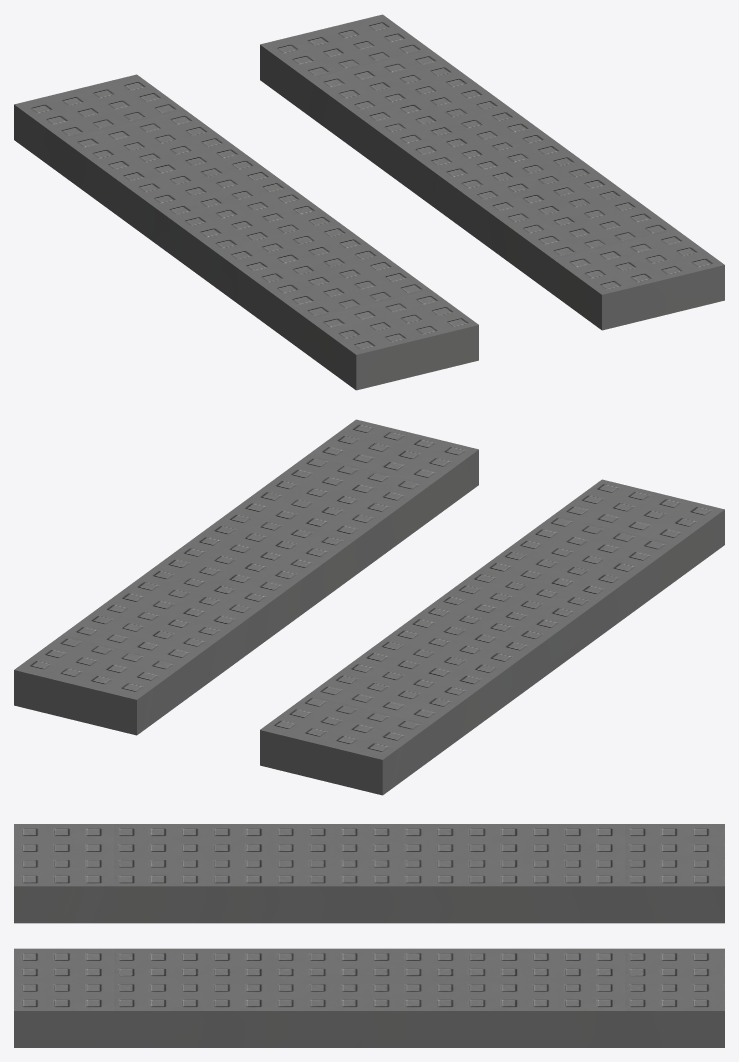
The model's file is way split.fbx.
The picture shows the model from 3 angles, top to bottom: view 1: azimuth 30°, elevation 25°; view 2: azimuth 150°, elevation 25°; view 3: azimuth 270°, elevation 25°; orthographic projection. The views are drawn at different scales.
Parts seen in each view (by area): view 1: Cube.001, Cube.005; view 2: Cube.001, Cube.005; view 3: Cube.001, Cube.005.
Boxes of the visible parts, x1=… form: Cube.001: x1=260, y1=14, x2=724, y2=330; Cube.005: x1=14, y1=74, x2=478, y2=390; Cube.001: x1=14, y1=419, x2=478, y2=735; Cube.005: x1=260, y1=479, x2=724, y2=795; Cube.001: x1=14, y1=948, x2=724, y2=1047; Cube.005: x1=14, y1=824, x2=724, y2=923.
Size of the model in its own units: 200 by 18.44 by 321.
Materials: 1 (1 with a texture image).
